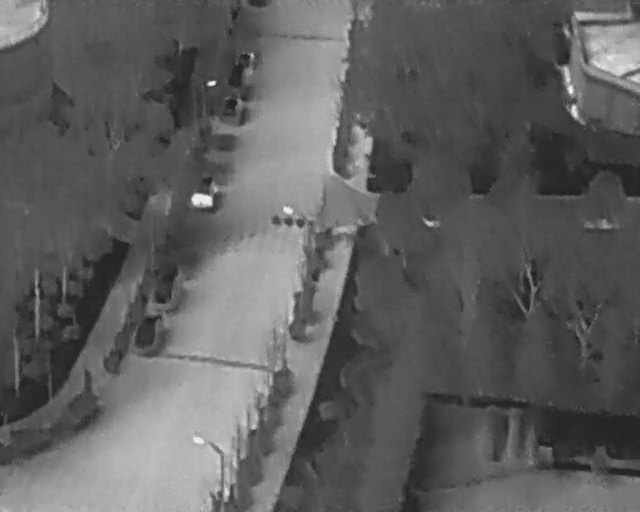Car: (131, 311, 164, 359), (150, 258, 179, 307), (188, 169, 220, 212), (226, 47, 257, 89), (218, 87, 247, 125)
